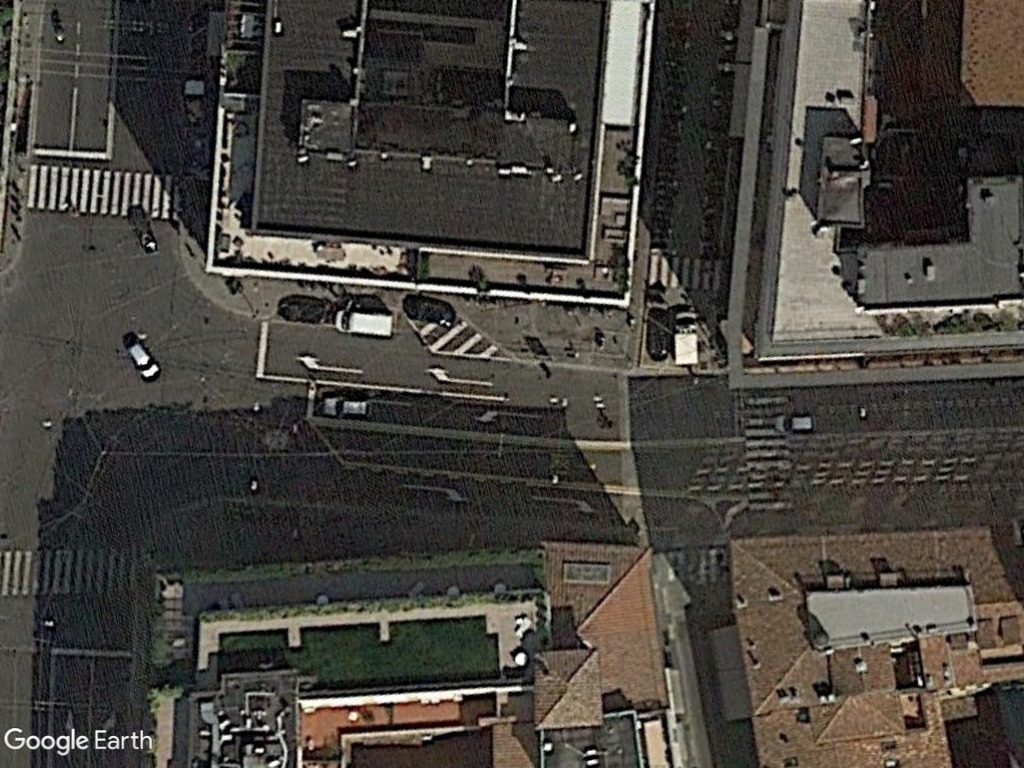car: (123, 339, 163, 383), (315, 392, 374, 421), (770, 410, 821, 439)
truck: (671, 307, 703, 371)
van: (330, 307, 398, 341)
